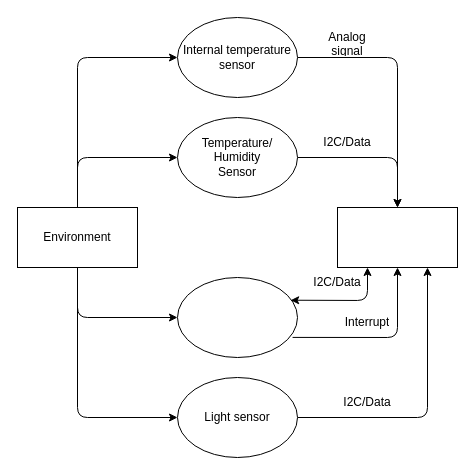
Some shapes in this 475 by 475 pixel diagram are drawn without their labels. Each missing label, with the box of its shape:
Motion Sensor: (176, 276, 298, 358)
µcontroller: (336, 206, 458, 268)
